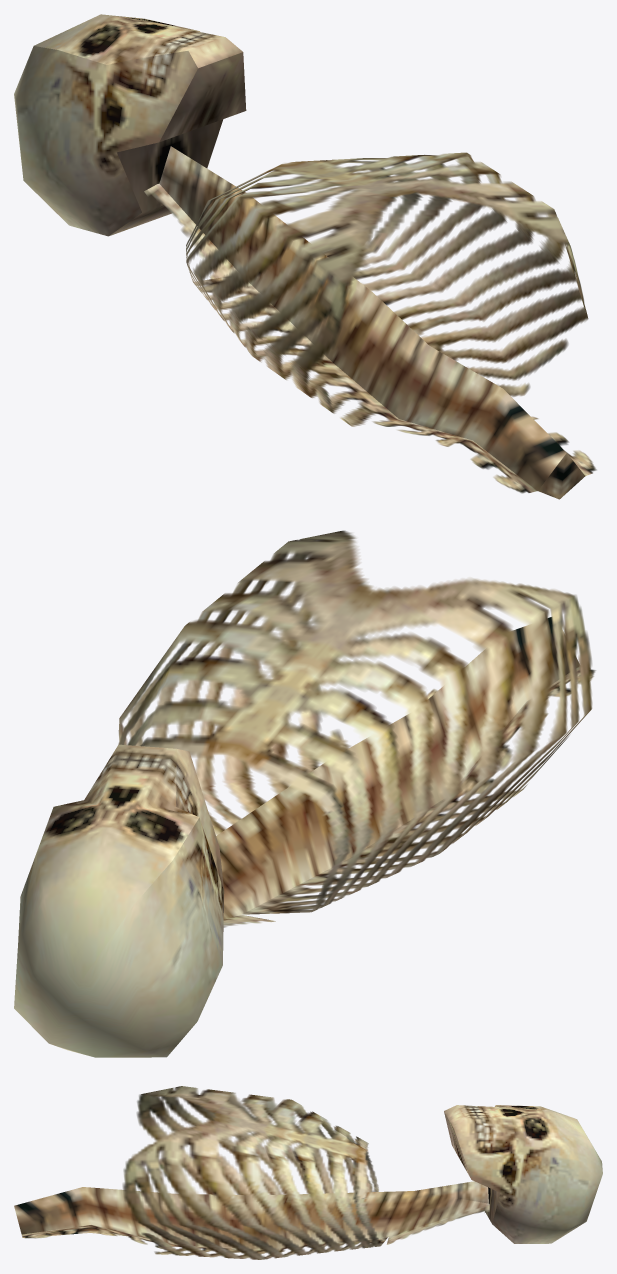
3 renders of one model, top to bottom at view 1: azimuth 30°, elevation 25°; view 2: azimuth 150°, elevation 25°; view 3: azimuth 270°, elevation 25°, orthographic. The views are drawn at different scales.
Visible parts, largest first — view 1: d_sk_part2; view 2: d_sk_part2; view 3: d_sk_part2.
Part boxes in pixels (left/top/right/bottom): d_sk_part2: left=14, top=14, right=596, bottom=499; d_sk_part2: left=14, top=530, right=595, bottom=1057; d_sk_part2: left=14, top=1086, right=602, bottom=1259.
Size of the model in its own units: 0.3061 by 0.2022 by 0.814.
2 materials, 2 textured.
